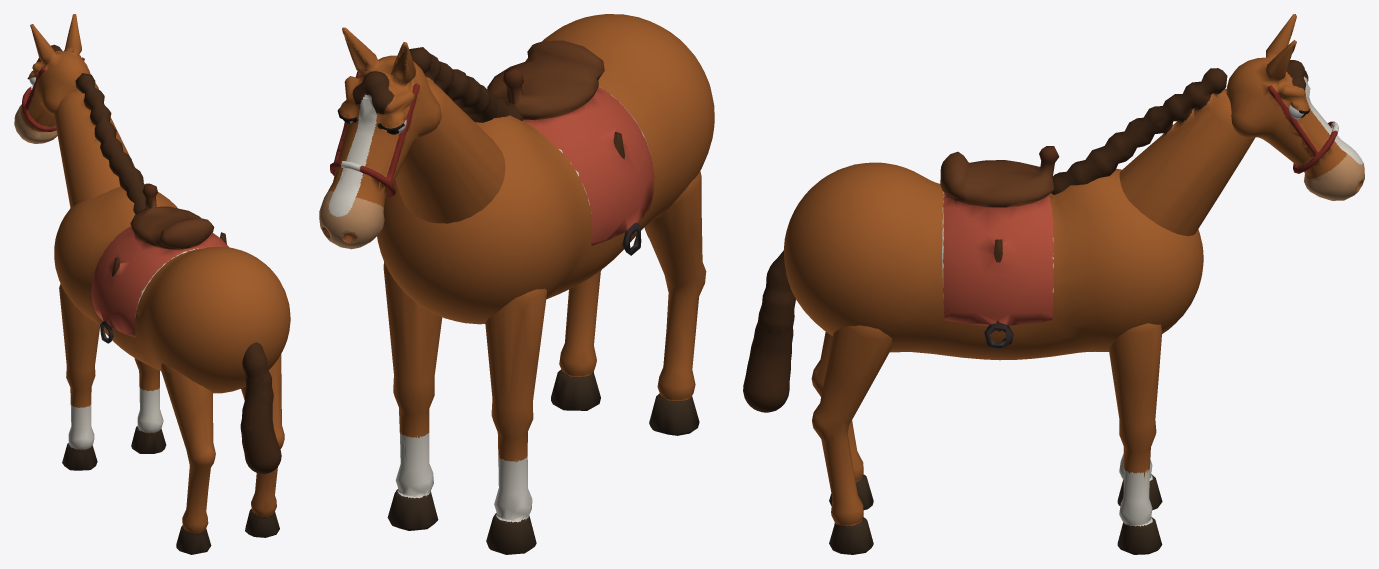
Rendered from kanel.glb.
3 views of the same model, side by side, from view 1: azimuth 30°, elevation 25°; view 2: azimuth 150°, elevation 25°; view 3: azimuth 270°, elevation 25° (orthographic). The views are drawn at different scales.
Parts seen in each view (by area): view 1: body_lod0, saddle_lod0, neck_lod0, leg_2_lod0, head_lod0, leg_0_lod0, tail_lod0, leg_3_lod0, leg_1_lod0; view 2: body_lod0, saddle_lod0, head_lod0, neck_lod0, leg_0_lod0, leg_1_lod0, leg_2_lod0, leg_3_lod0; view 3: body_lod0, saddle_lod0, neck_lod0, head_lod0, leg_3_lod0, leg_1_lod0, tail_lod0, leg_2_lod0.
Boxes of the visible parts, left/top/right/bottom form: body_lod0: left=54, top=186, right=290, bottom=393; saddle_lod0: left=91, top=183, right=229, bottom=343; neck_lod0: left=54, top=73, right=145, bottom=214; leg_2_lod0: left=161, top=363, right=215, bottom=554; head_lod0: left=14, top=14, right=98, bottom=143; leg_0_lod0: left=59, top=284, right=99, bottom=470; tail_lod0: left=240, top=342, right=281, bottom=473; leg_3_lod0: left=241, top=354, right=284, bottom=537; leg_1_lod0: left=131, top=358, right=166, bottom=453; body_lod0: left=377, top=14, right=714, bottom=324; saddle_lod0: left=487, top=40, right=654, bottom=255; head_lod0: left=319, top=27, right=441, bottom=249; neck_lod0: left=395, top=47, right=523, bottom=223; leg_0_lod0: left=485, top=288, right=546, bottom=554; leg_1_lod0: left=383, top=262, right=442, bottom=530; leg_2_lod0: left=644, top=171, right=706, bottom=435; leg_3_lod0: left=551, top=270, right=601, bottom=410; body_lod0: left=783, top=162, right=1203, bottom=360; saddle_lod0: left=940, top=146, right=1059, bottom=350; neck_lod0: left=1051, top=68, right=1255, bottom=236; head_lod0: left=1226, top=14, right=1364, bottom=200; leg_3_lod0: left=812, top=325, right=892, bottom=554; leg_1_lod0: left=1109, top=323, right=1162, bottom=554; tail_lod0: left=743, top=251, right=795, bottom=412; leg_2_lod0: left=811, top=332, right=873, bottom=510.
Size of what is drawn, in the model's own units: 0.9928 by 2.84 by 3.21.
